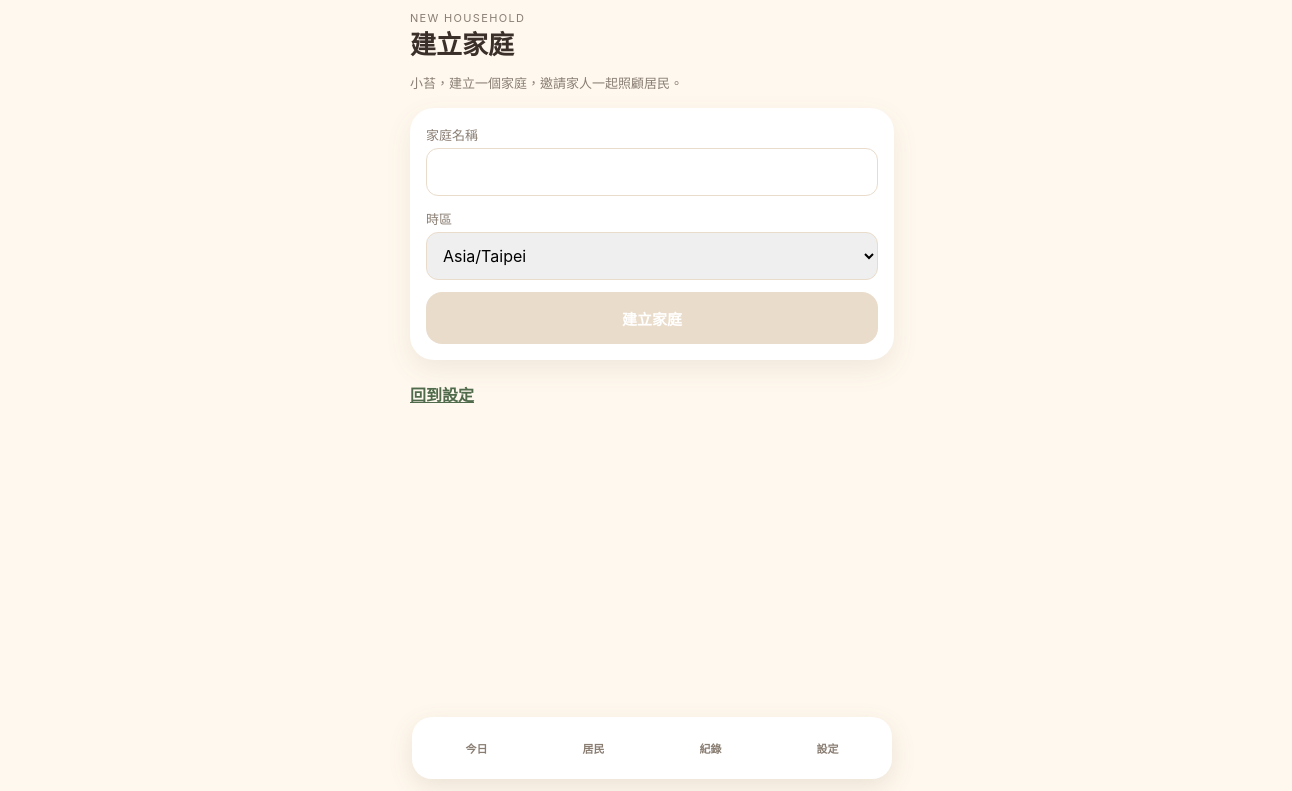
Test: onboarding › moves an empty user from the create form to a non-empty Today and Animals view
Step 1. Type "苔間" into the field labelled "家庭名稱" → x=652, y=172, box left=426, top=148, right=878, bottom=196
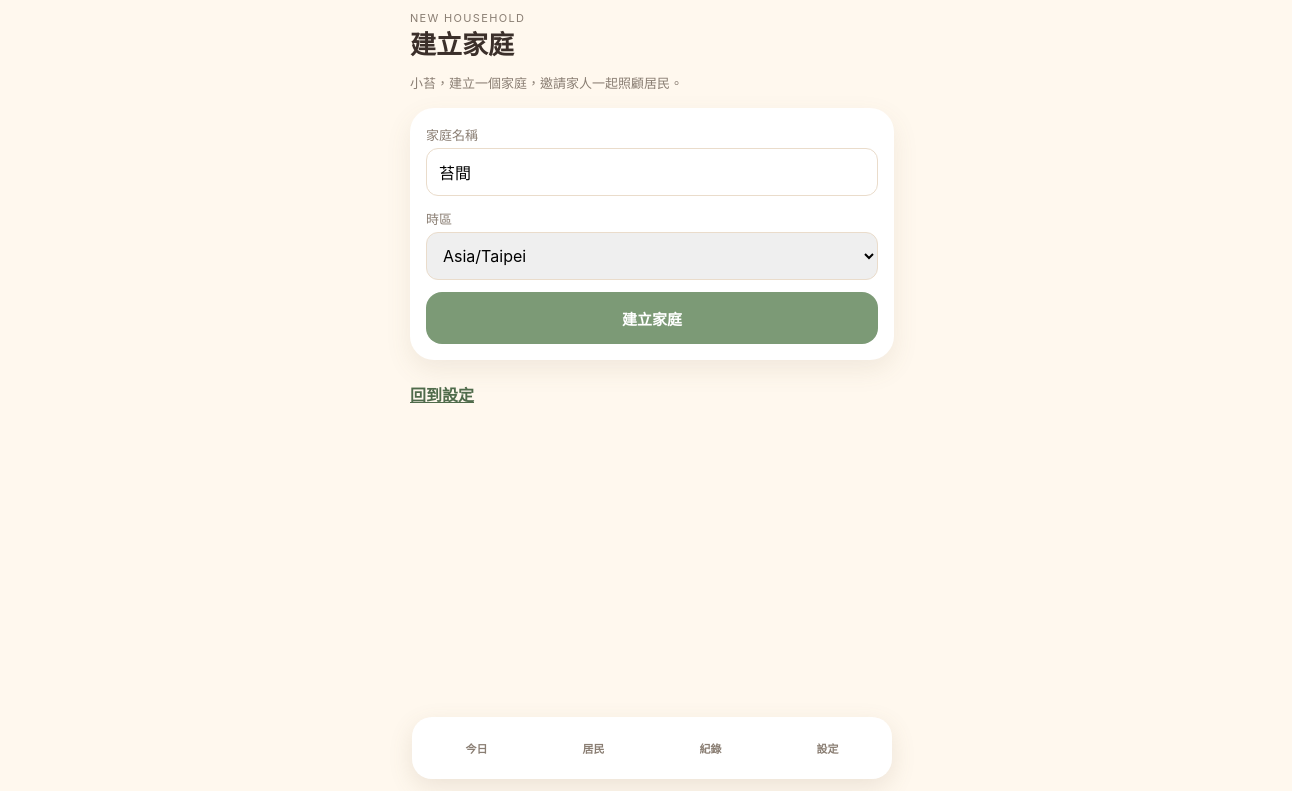
Step 2. Click the button "建立家庭" → x=652, y=318, box left=426, top=292, right=878, bottom=344
(page scrolled)
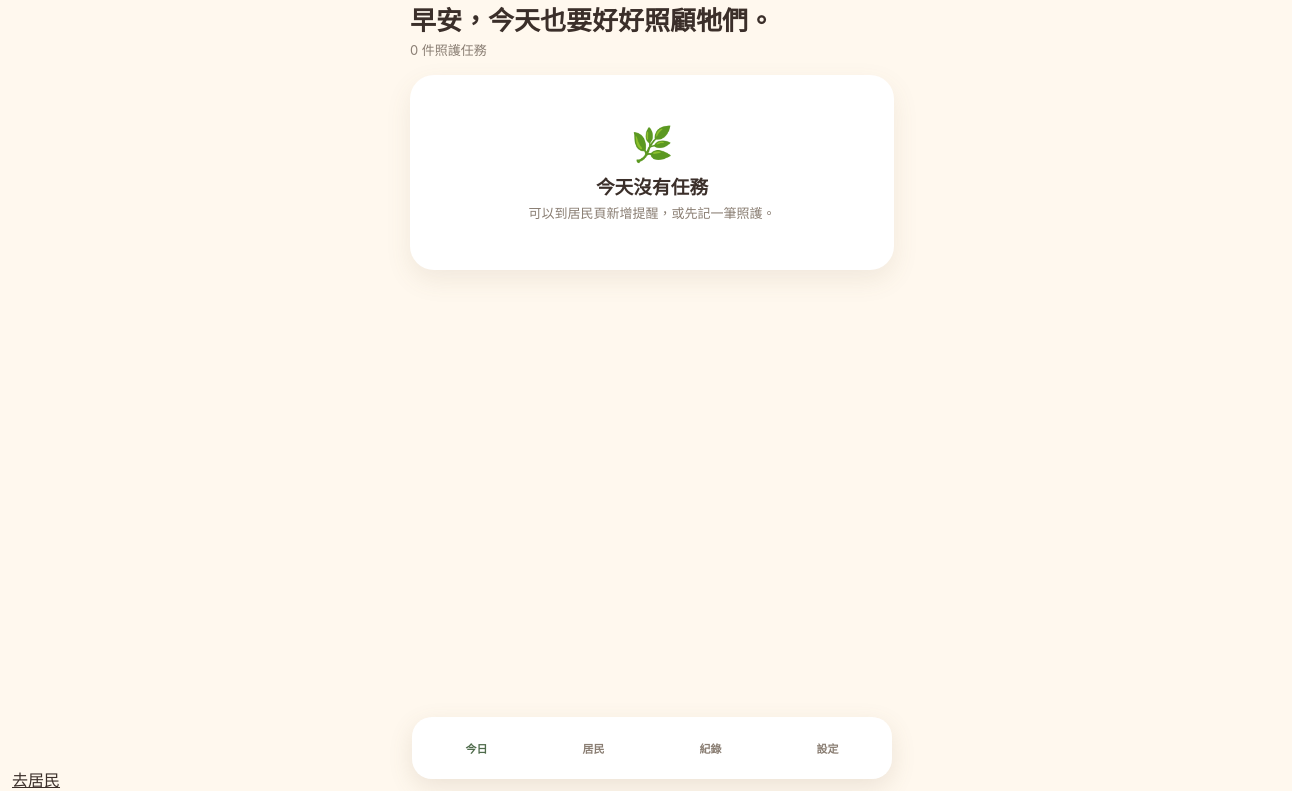
expect the text "0 件照護任務" is shown: met, box left=410, top=42, right=487, bottom=58
Step 3. Click the link "去居民" → x=36, y=780, box left=12, top=770, right=60, bottom=790
(page scrolled)
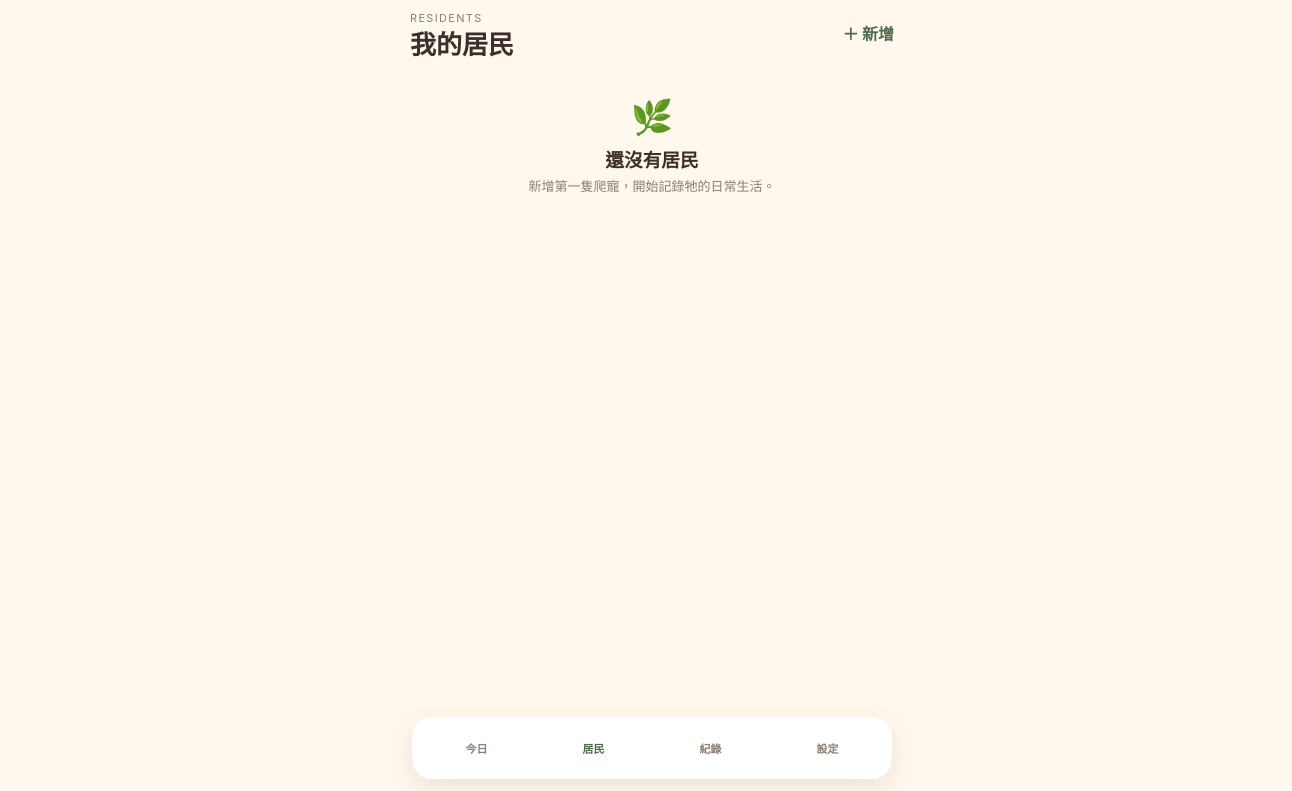
expect the heading "還沒有居民" is shown: met, box left=605, top=149, right=699, bottom=172
